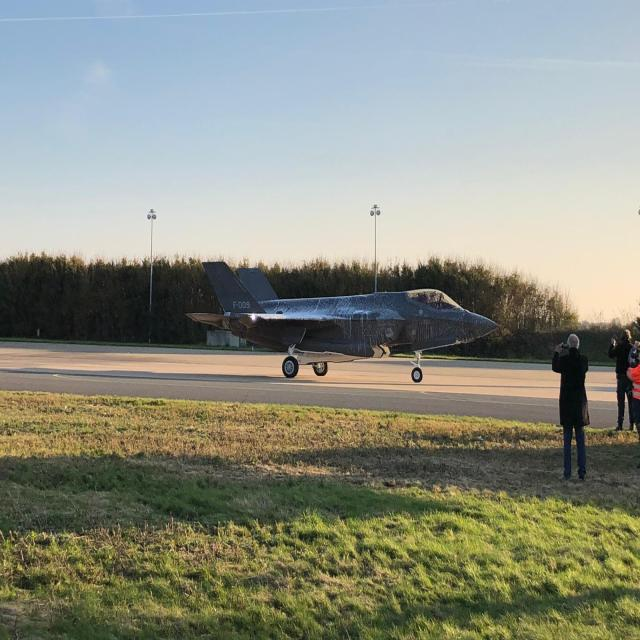MIL_Plane: (183, 261, 500, 383)
